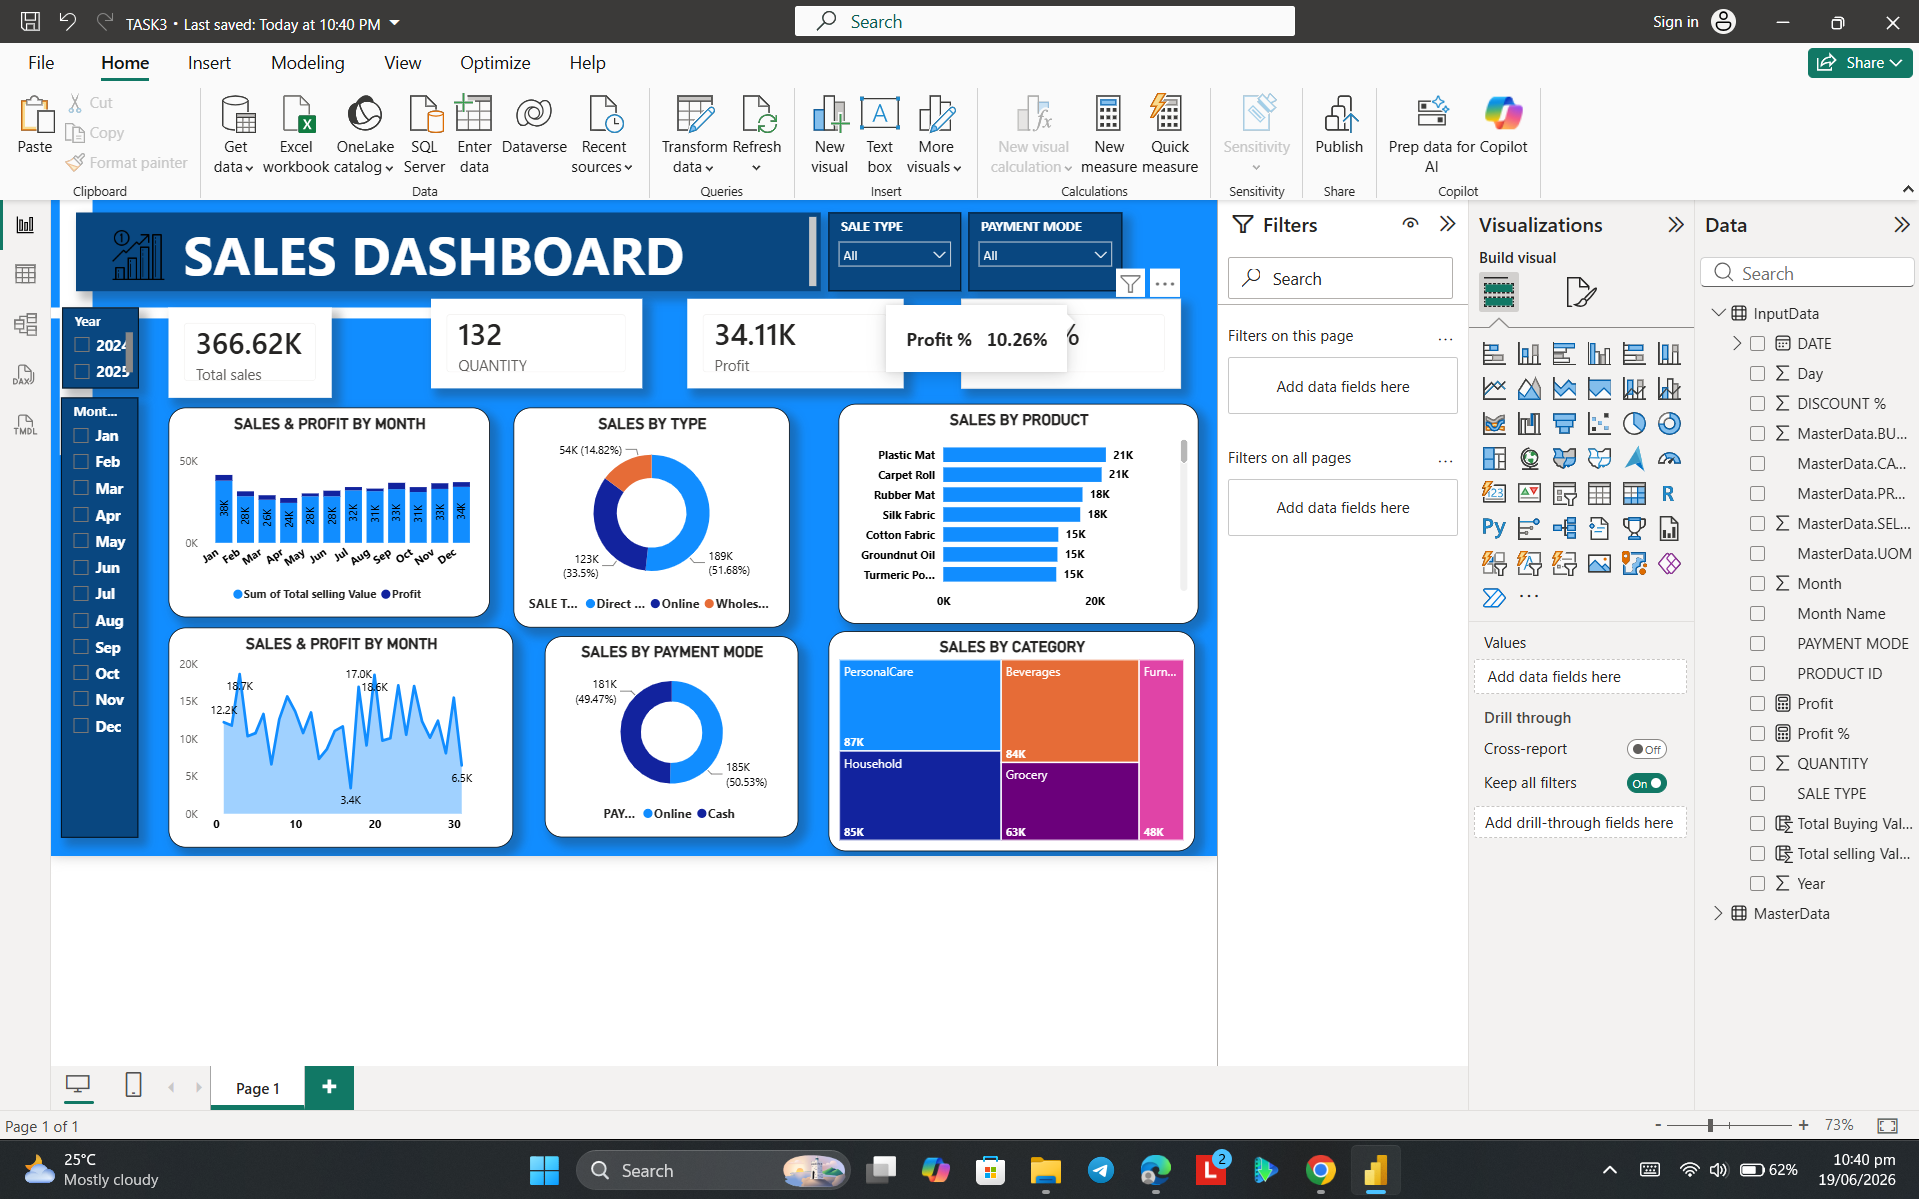

Layout of this report page (visuals, bound fields, positions):
{"tool":"powerbi","page":{"name":"Page 1","canvas":[1280,720],"ordinal":0},"visuals":[{"type":"textbox","box":[9.6,0,35.7,279.9],"z":0},{"type":"image","box":[96.1,30.2,85.1,70],"z":4},{"type":"textbox","box":[0,118,437.7,12.3],"z":5},{"type":"textbox","box":[27.4,13.7,817.8,86.4],"z":6},{"type":"image","box":[48,24.7,96.1,75.5],"z":7},{"type":"slicer","fields":{"Values":["InputData.Year"]},"box":[12.3,118,83.7,89.2],"z":8},{"type":"slicer","fields":{"Values":["InputData.Month Name"]},"box":[11,216.8,85.1,483],"z":9},{"type":"slicer","fields":{"Values":["InputData.SALE TYPE"]},"box":[853.5,14,145.3,86],"z":10},{"type":"slicer","fields":{"Values":["InputData.PAYMENT MODE"]},"box":[1007,14,168.6,86],"z":11},{"type":"cardVisual","title":"Total sales","fields":{"Data":["Sum(InputData.Total selling Value)"]},"box":[129.1,117.4,179.1,98.8],"z":12},{"type":"cardVisual","title":"Total sales","fields":{"Data":["Sum(InputData.QUANTITY)"]},"box":[417.2,108.4,231.9,98.8],"z":13},{"type":"cardVisual","title":"Total sales","fields":{"Data":["InputData.Profit %"]},"box":[999,108.4,241.5,98.8],"z":14},{"type":"cardVisual","title":"Total sales","fields":{"Data":["InputData.Profit"]},"box":[698.5,108.4,237.4,98.8],"z":15},{"type":"columnChart","title":"SALES & PROFIT BY MONTH","fields":{"Y":["Sum(InputData.Total selling Value)","InputData.Profit"],"Category":["InputData.Month Name"]},"box":[129,227.8,352.7,230.5],"z":16},{"type":"areaChart","title":"SALES & PROFIT BY MONTH","fields":{"Y":["Sum(InputData.Total selling Value)"],"Category":["InputData.Day"]},"box":[129,469.3,378.7,241.5],"z":17},{"type":"clusteredBarChart","title":"SALES BY PRODUCT","fields":{"Category":["InputData.MasterData.PRODUCT"],"Y":["Sum(InputData.Total selling Value)"]},"box":[864.5,223.7,395.2,241.5],"z":18},{"type":"treemap","title":"SALES BY CATEGORY","fields":{"Group":["InputData.MasterData.CATEGORY"],"Values":["Sum(InputData.Total selling Value)"]},"box":[853.5,473.4,402.1,241.5],"z":19},{"type":"donutChart","title":"SALES BY TYPE","fields":{"Y":["Sum(InputData.Total selling Value)"],"Category":["InputData.SALE TYPE"]},"box":[507.7,227.8,303.3,241.5],"z":20},{"type":"donutChart","title":"SALES BY PAYMENT MODE","fields":{"Y":["Sum(InputData.Total selling Value)"],"Category":["InputData.PAYMENT MODE"]},"box":[542,478.9,278.6,220.9],"z":21}]}

Visuals, with their boxes on the page's 1280x720 design canvas (x1, y1, x2, y2). These are canvas units, not pixel positions in the 1919x1199 screenshot, which may show the page scaled, cropped or inside an application window:
textbox: crop(10, 0, 45, 280)
image: crop(96, 30, 181, 100)
textbox: crop(0, 118, 438, 130)
textbox: crop(27, 14, 845, 100)
image: crop(48, 25, 144, 100)
slicer - InputData.Year: crop(12, 118, 96, 207)
slicer - InputData.Month Name: crop(11, 217, 96, 700)
slicer - InputData.SALE TYPE: crop(854, 14, 999, 100)
slicer - InputData.PAYMENT MODE: crop(1007, 14, 1176, 100)
"Total sales" cardVisual: crop(129, 117, 308, 216)
"Total sales" cardVisual: crop(417, 108, 649, 207)
"Total sales" cardVisual: crop(999, 108, 1240, 207)
"Total sales" cardVisual: crop(698, 108, 936, 207)
"SALES & PROFIT BY MONTH" columnChart: crop(129, 228, 482, 458)
"SALES & PROFIT BY MONTH" areaChart: crop(129, 469, 508, 711)
"SALES BY PRODUCT" clusteredBarChart: crop(864, 224, 1260, 465)
"SALES BY CATEGORY" treemap: crop(854, 473, 1256, 715)
"SALES BY TYPE" donutChart: crop(508, 228, 811, 469)
"SALES BY PAYMENT MODE" donutChart: crop(542, 479, 821, 700)
